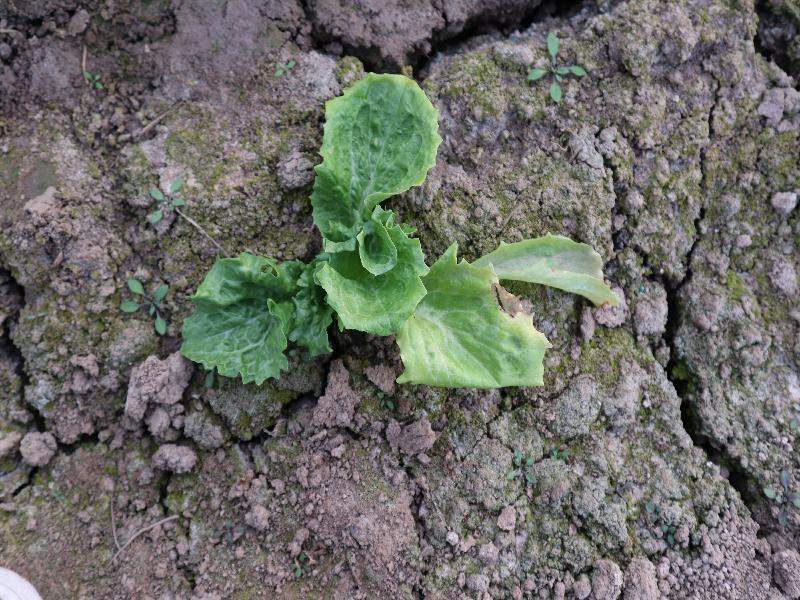lettuce: (179, 71, 616, 387)
